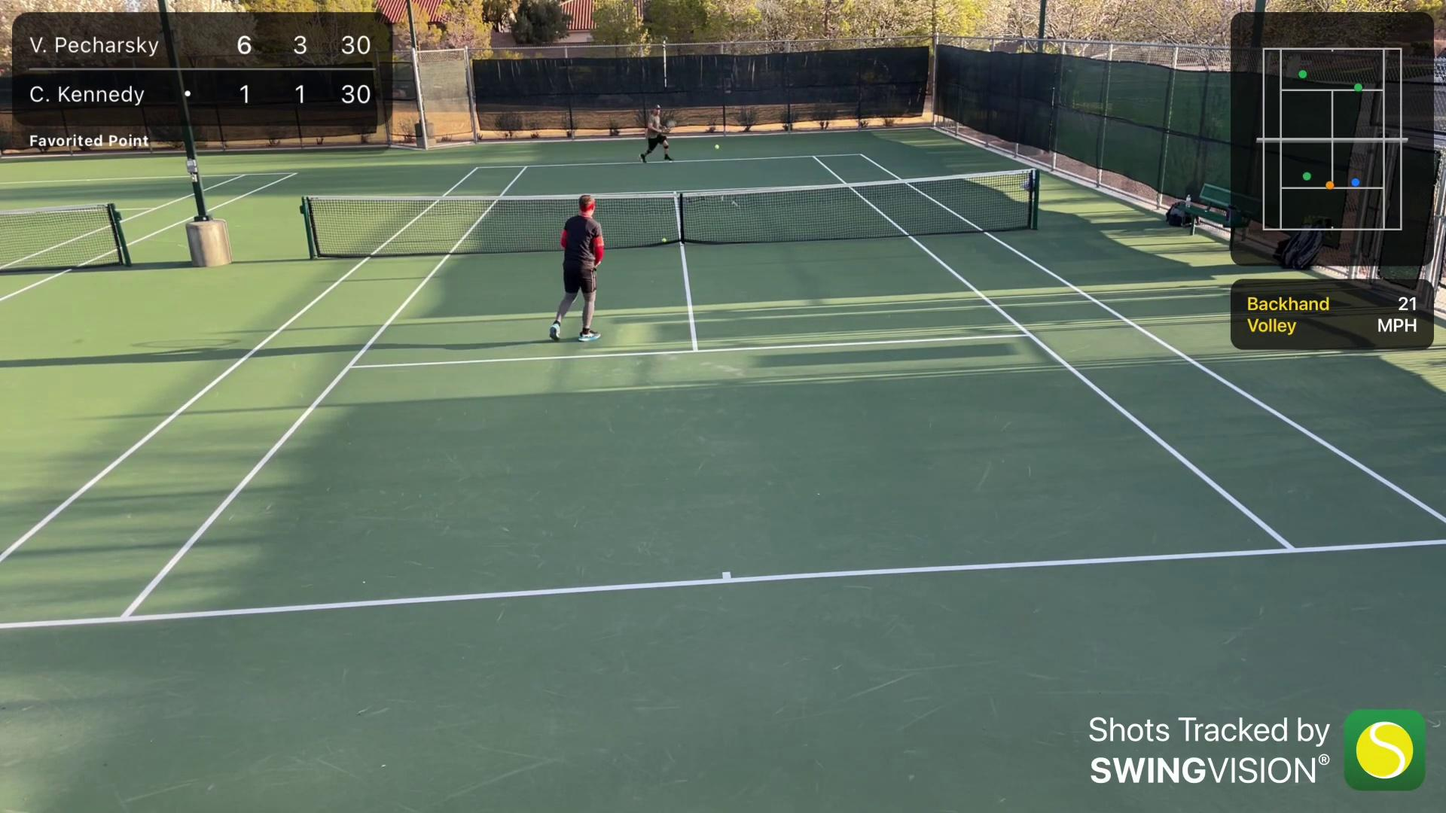ball: (714, 143, 720, 151), (660, 238, 667, 243)
